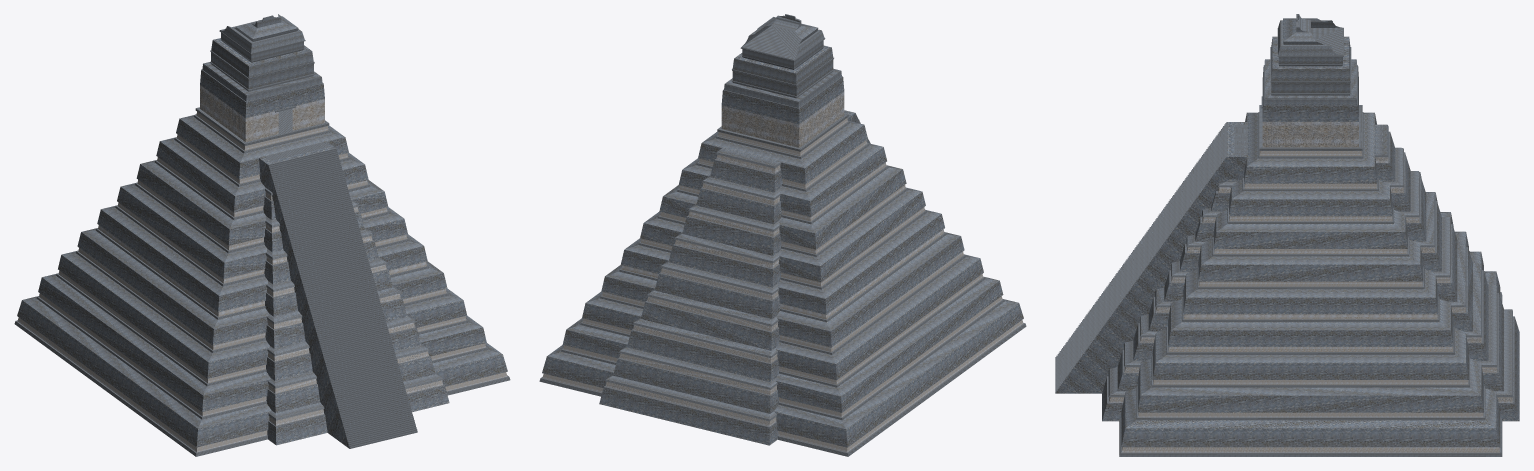
Rendered from Temple Tikal.dae.
3 renders of one model, left to right at view 1: azimuth 30°, elevation 25°; view 2: azimuth 150°, elevation 25°; view 3: azimuth 270°, elevation 25°, orthographic. The views are drawn at different scales.
Parts seen in each view (by area): view 1: SketchUp (×47); view 2: SketchUp (×53); view 3: SketchUp (×48).
Part boxes in pixels (x1,y1,x2,y2): SketchUp (×47): (14, 14, 510, 456); SketchUp (×53): (539, 25, 1026, 456); SketchUp (×48): (1055, 14, 1519, 456).
Size of the model in its own units: 1785 by 2165 by 1846.
Materials: 3 (3 with a texture image).
